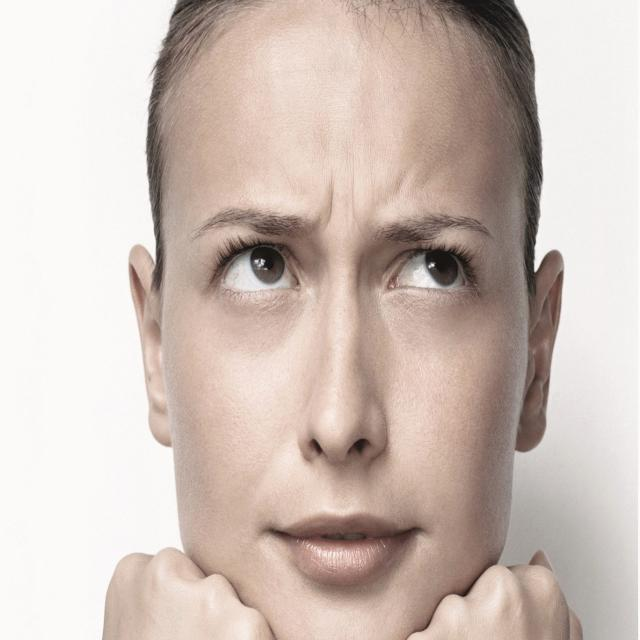earlobe: (514, 249, 566, 455), (127, 244, 175, 452)
